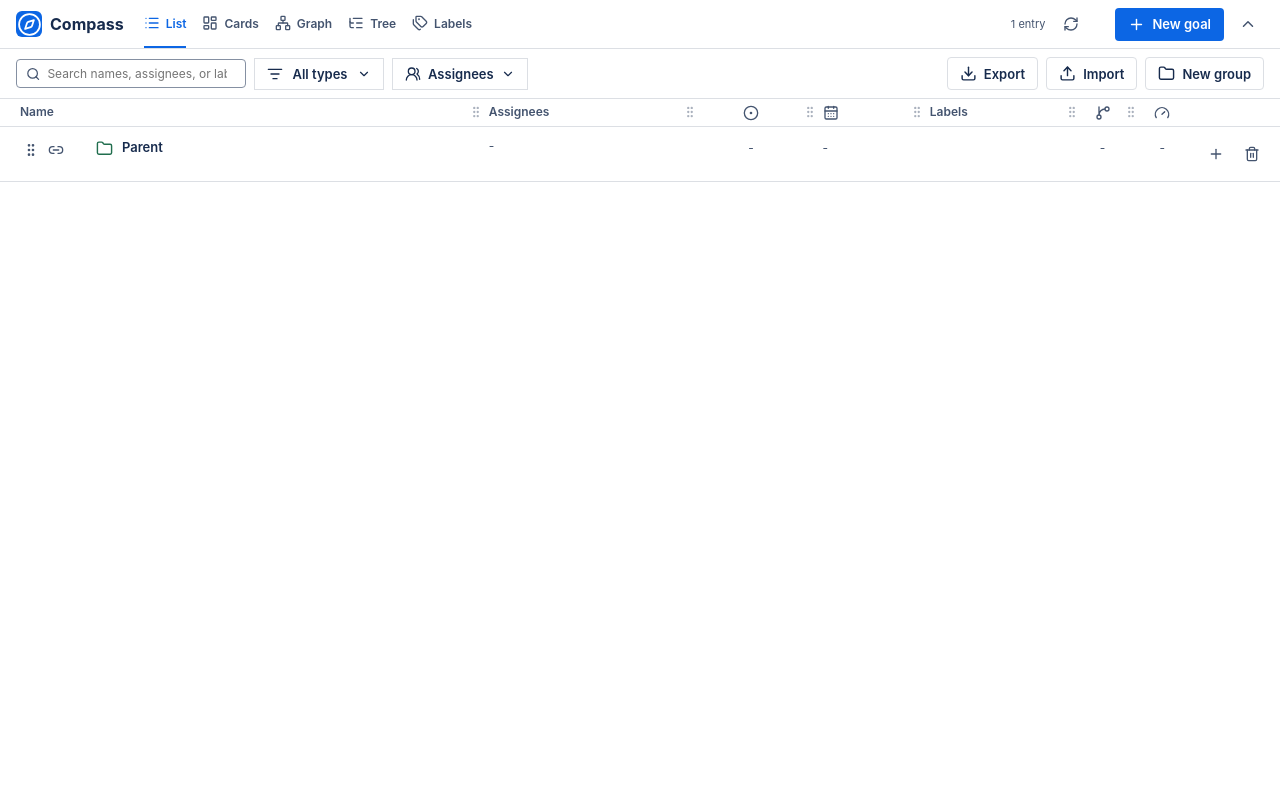
Test: given a group row, its plus shortcut creates a goal beneath that entry
This screenshot has width=1280, height=800.
Click the button named "Add goal under Parent". click: (1216, 154)
box: [1200,138,1232,170]
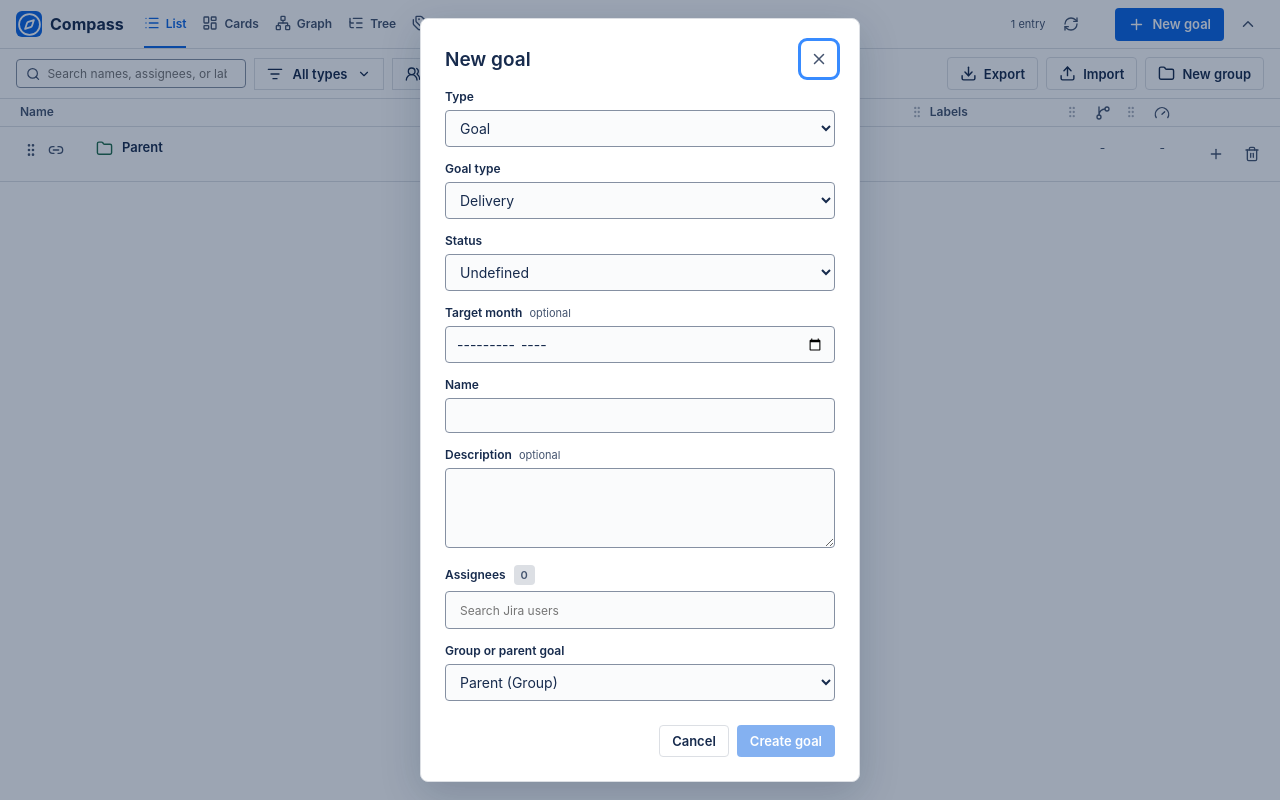
Result: the dropdown with id "new-type" shows "Goal" at [445,110,835,147]
Result: the dropdown with id "new-parent" shows "Parent (Group)" at [445,664,835,701]
Type "New child" into the field with id "new-name". click: (640, 416)
box: [445,398,835,433]
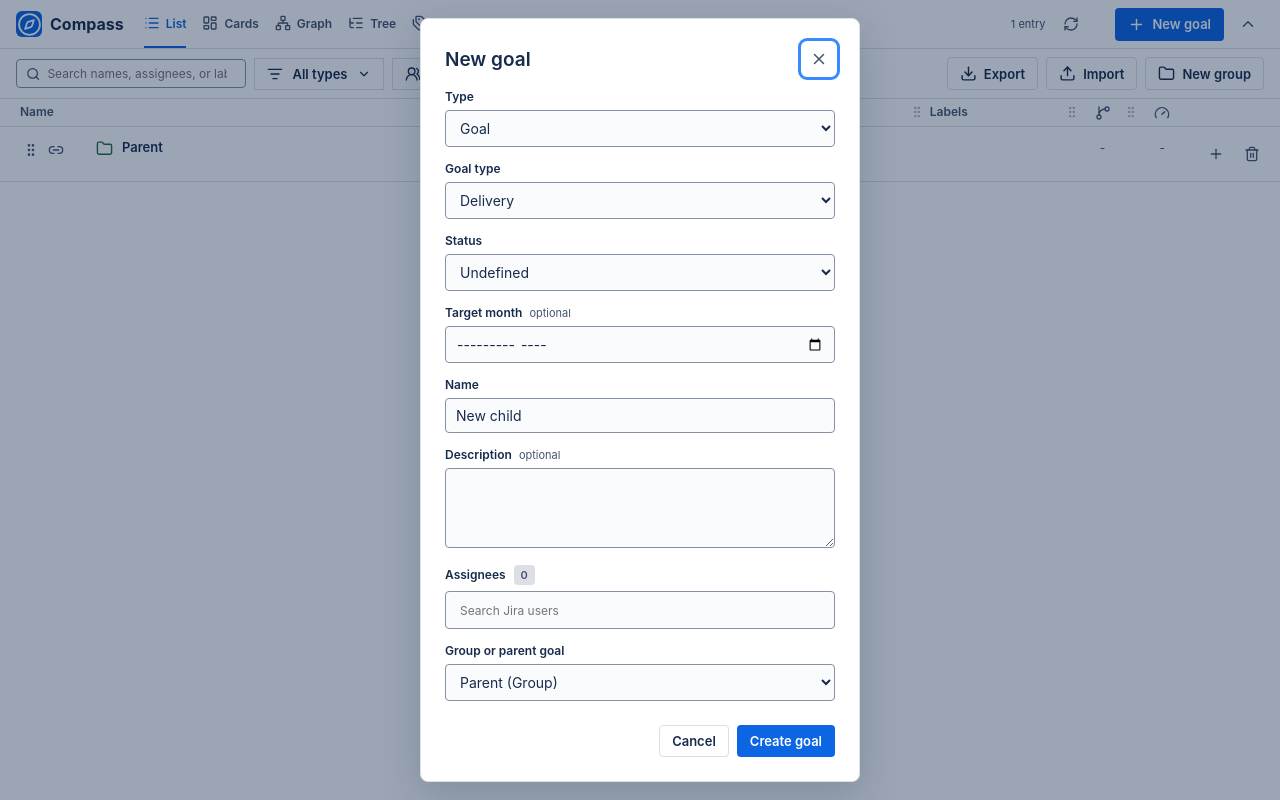
Submit the form, box [445,43,835,757]
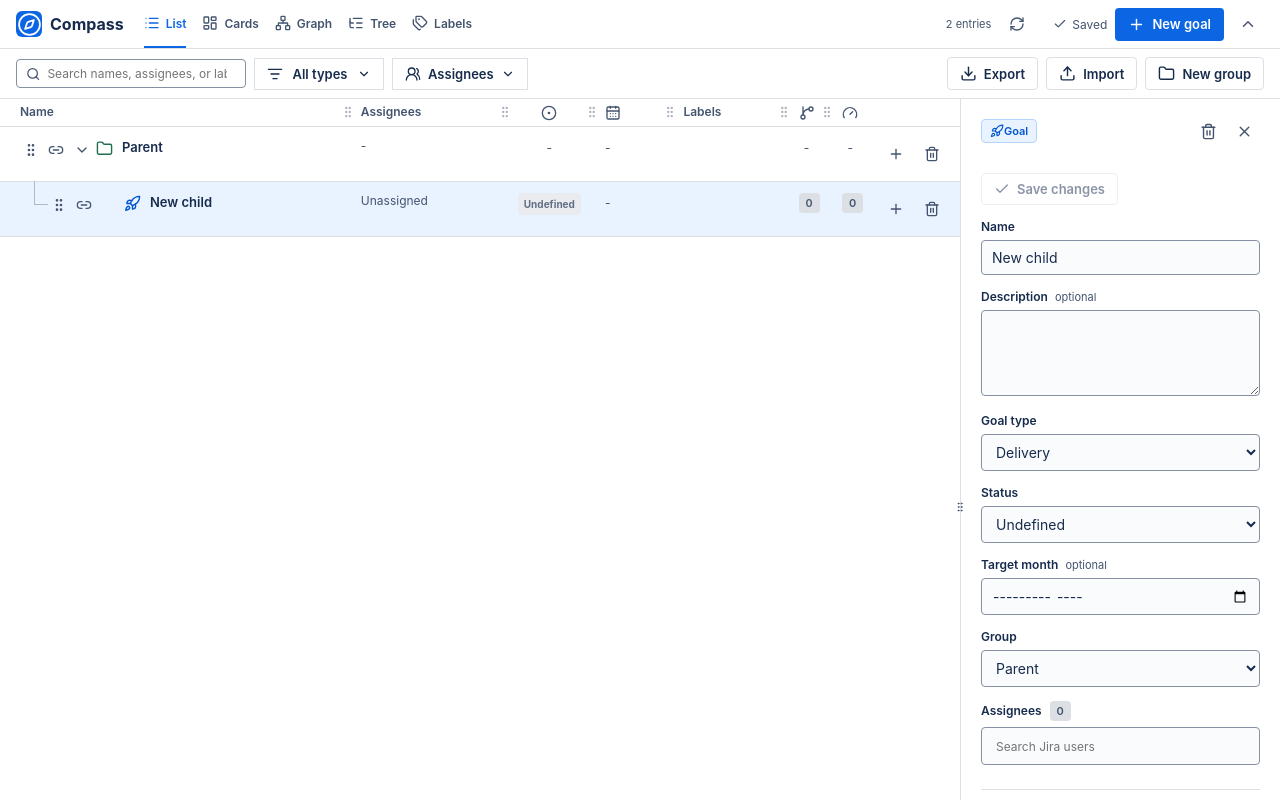
Result: the row "New child Unassigned Undefined - 0 0" is shown at [0,181,960,236]
